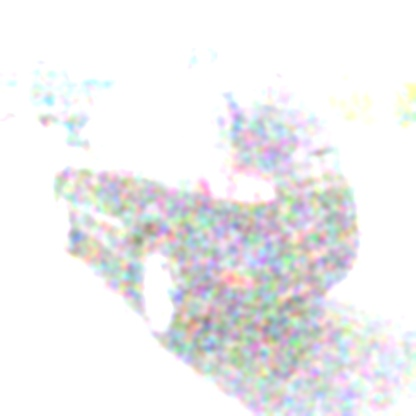Vehicle: (52, 64, 364, 346)
